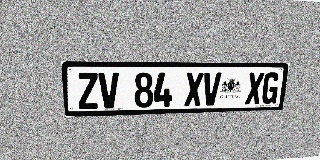4: (154, 72, 173, 107)
8: (134, 72, 154, 108)
G: (261, 72, 280, 104)
V: (98, 73, 119, 109), (202, 72, 221, 106)
X: (184, 72, 204, 106), (245, 72, 265, 105)
Z: (77, 73, 99, 109)
